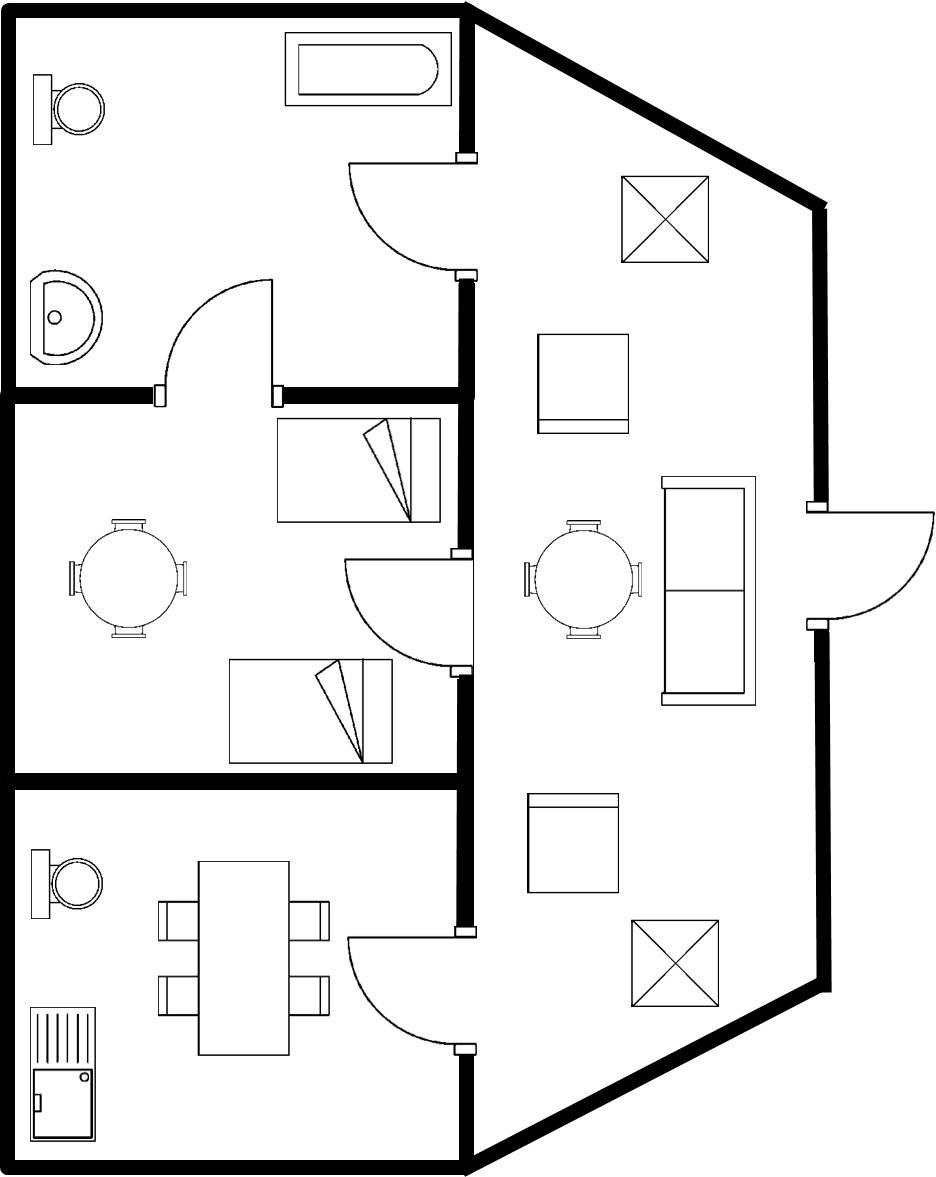bed: (267, 410, 446, 531), (218, 651, 401, 768)
dining_table: (149, 849, 338, 1062)
round_table: (55, 508, 195, 645), (515, 508, 645, 650)
sink: (20, 996, 103, 1150)
sofa: (648, 466, 760, 712)
toilet: (20, 839, 108, 930), (28, 64, 108, 155)
tub: (277, 23, 459, 120)
